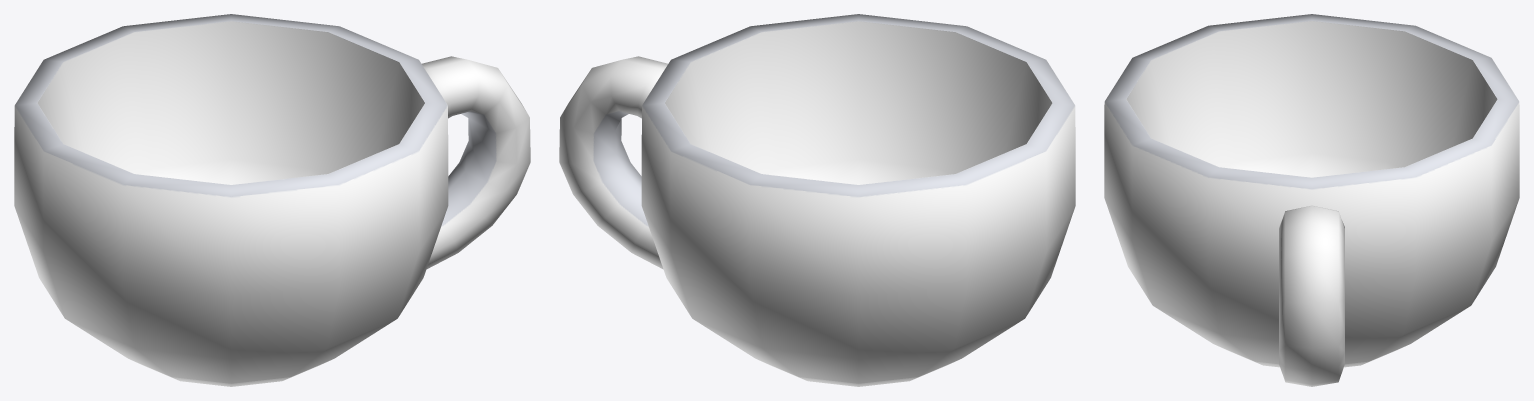
The model's file is EmptyCup.fbx.
3 views of the same model, side by side, from view 1: azimuth 30°, elevation 25°; view 2: azimuth 150°, elevation 25°; view 3: azimuth 270°, elevation 25° (orthographic). The views are drawn at different scales.
Visible parts, largest first — view 1: EmptyCup; view 2: EmptyCup; view 3: EmptyCup.
Boxes of the visible parts, left/top/right/bottom form: EmptyCup: left=14, top=14, right=530, bottom=386; EmptyCup: left=559, top=14, right=1075, bottom=386; EmptyCup: left=1104, top=14, right=1519, bottom=386.
Size of the model in its own units: 48.68 by 23.38 by 38.21.
